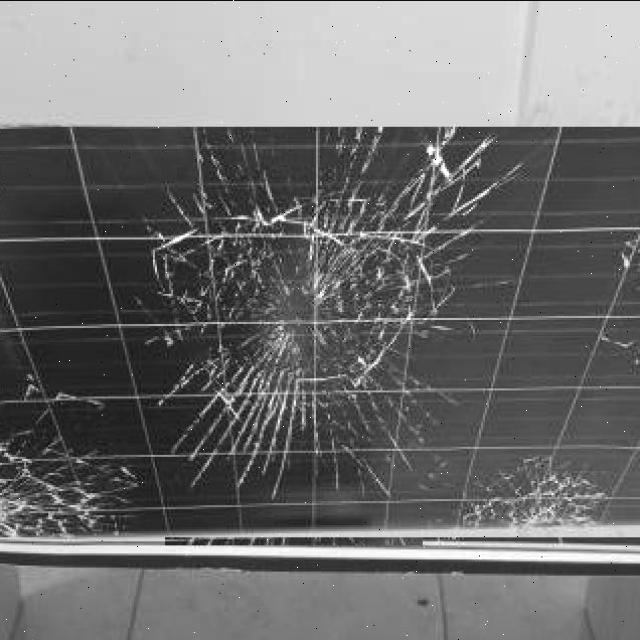Anomaly Solar Panel: (1, 126, 640, 538)
Structural Damage: (140, 125, 534, 503), (0, 418, 142, 536), (455, 447, 611, 530)
